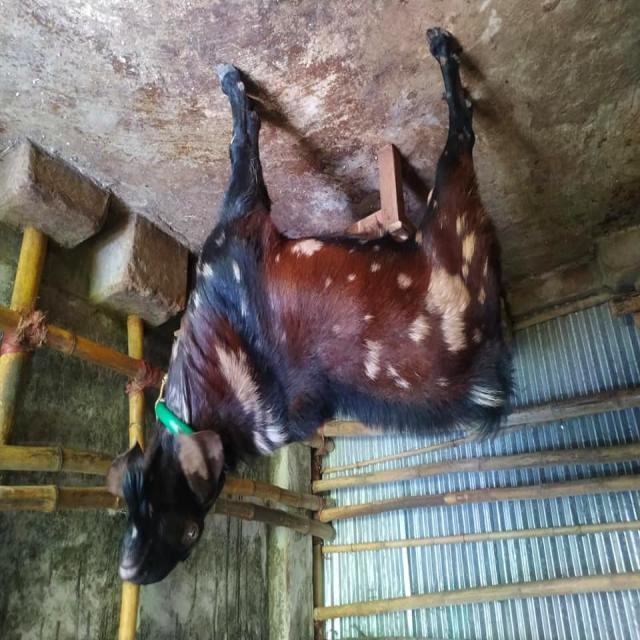Goat: (106, 28, 517, 589)
